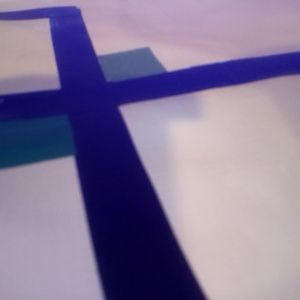bottom_left: (1, 94, 118, 168)
top_right: (61, 46, 168, 97)
